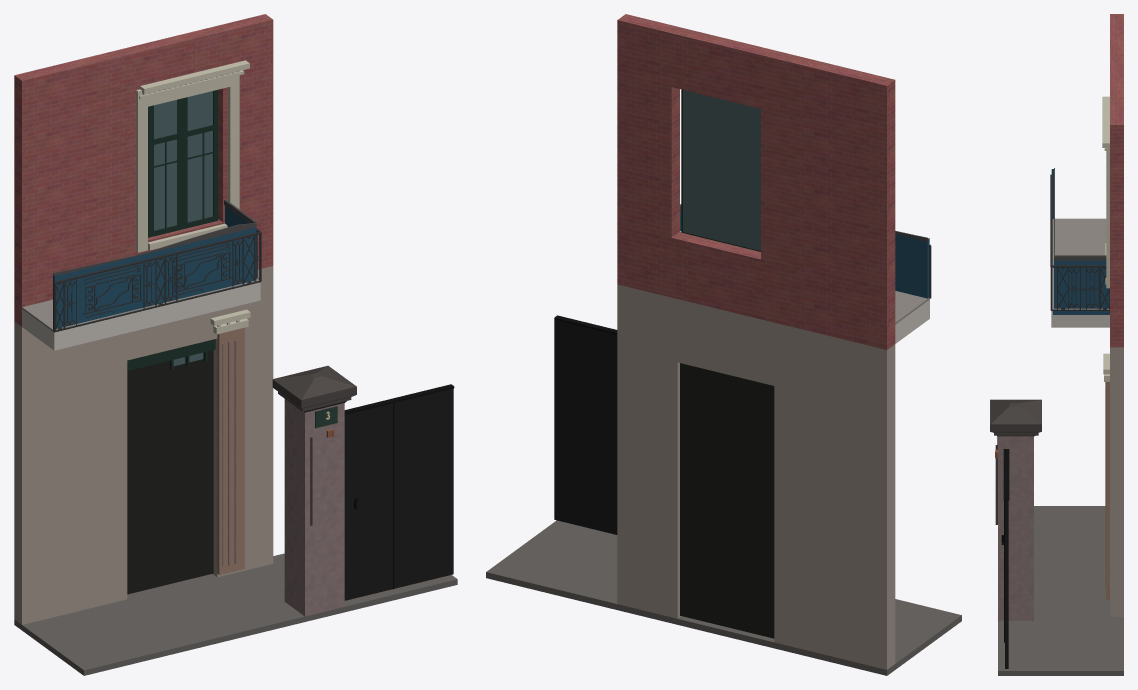
File: xuhui-dafuli-yanqing-29-no3-court-lod.glb
3 views of the same model, side by side, from view 1: azimuth 30°, elevation 25°; view 2: azimuth 150°, elevation 25°; view 3: azimuth 270°, elevation 25° (orthographic). The views are drawn at different scales.
Visible parts, largest first — view 1: 大福里延庆路29弄3号院门与露台; view 2: 大福里延庆路29弄3号院门与露台; view 3: 大福里延庆路29弄3号院门与露台.
Boxes of the visible parts, x1=… form: 大福里延庆路29弄3号院门与露台: x1=14, y1=14, x2=457, y2=675; 大福里延庆路29弄3号院门与露台: x1=486, y1=14, x2=961, y2=675; 大福里延庆路29弄3号院门与露台: x1=990, y1=14, x2=1123, y2=675.
Size of the model in its own units: 4.74 by 6.65 by 1.62.
Materials: 20 (2 with a texture image).
